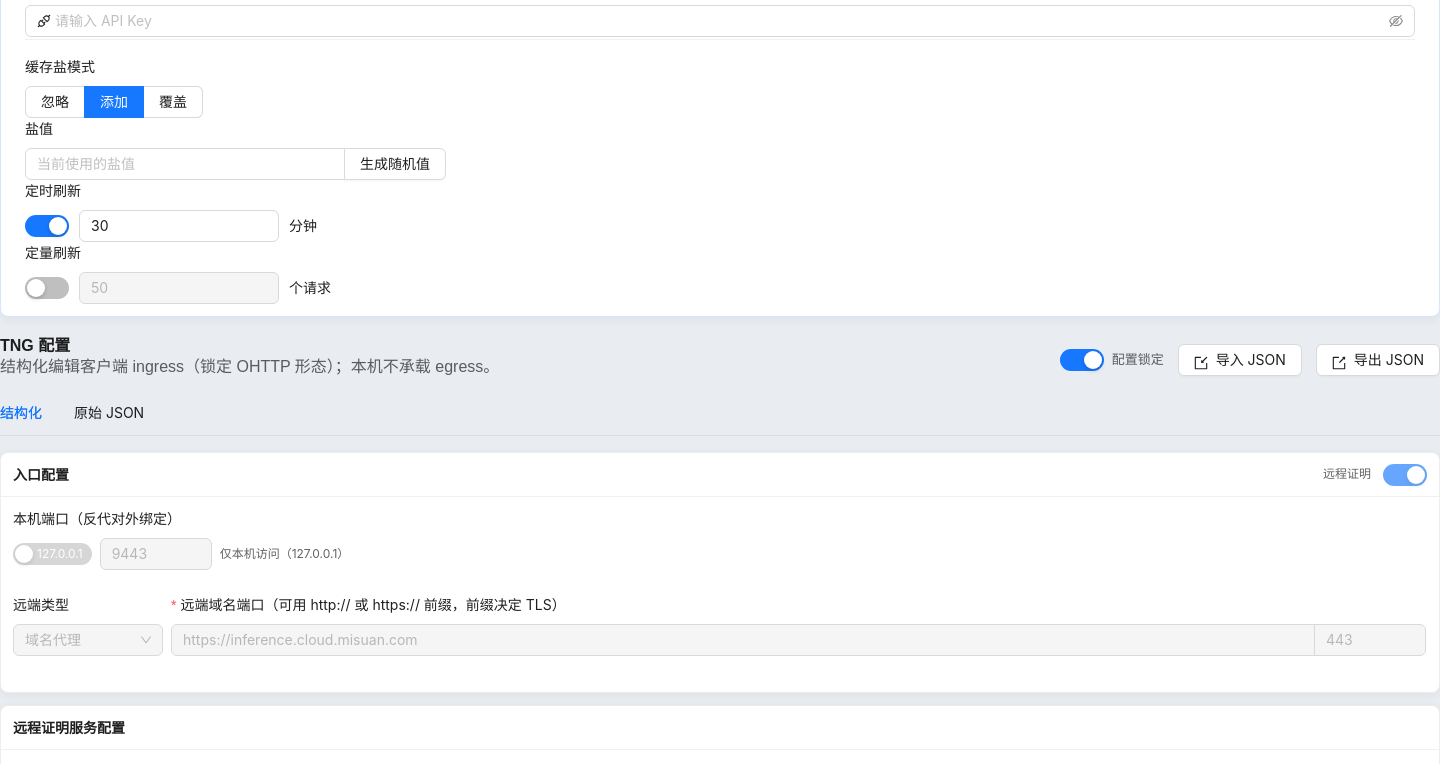
it: SettingsView TNG 配置布局与默认值 › 关闭锁定后全部 TNG 配置编辑控件恢复可交互
(page scrolled)
Step 1. Click the switch named "锁定 TNG 配置" → click(1082, 360), box [1060,349,1104,371]
(page scrolled)
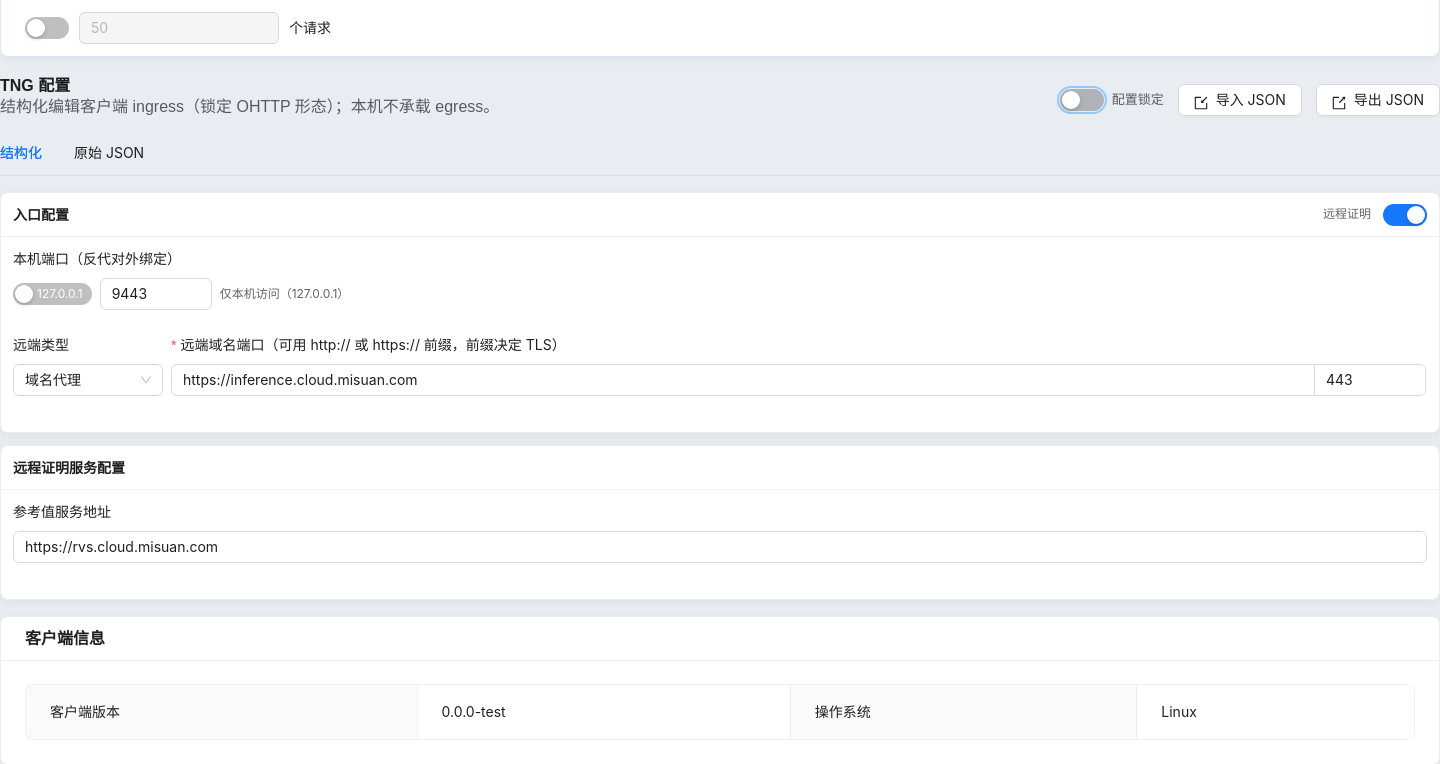
Result: the 2nd field is enabled at [171,364,1315,396]
Result: the 3rd field with placeholder "远端端口（可留空）" is enabled at [1314,364,1426,396]
Result: the field with placeholder "端口（必填）" next to "仅本机访问（127.0.0.1）" is enabled at [100,278,212,310]
